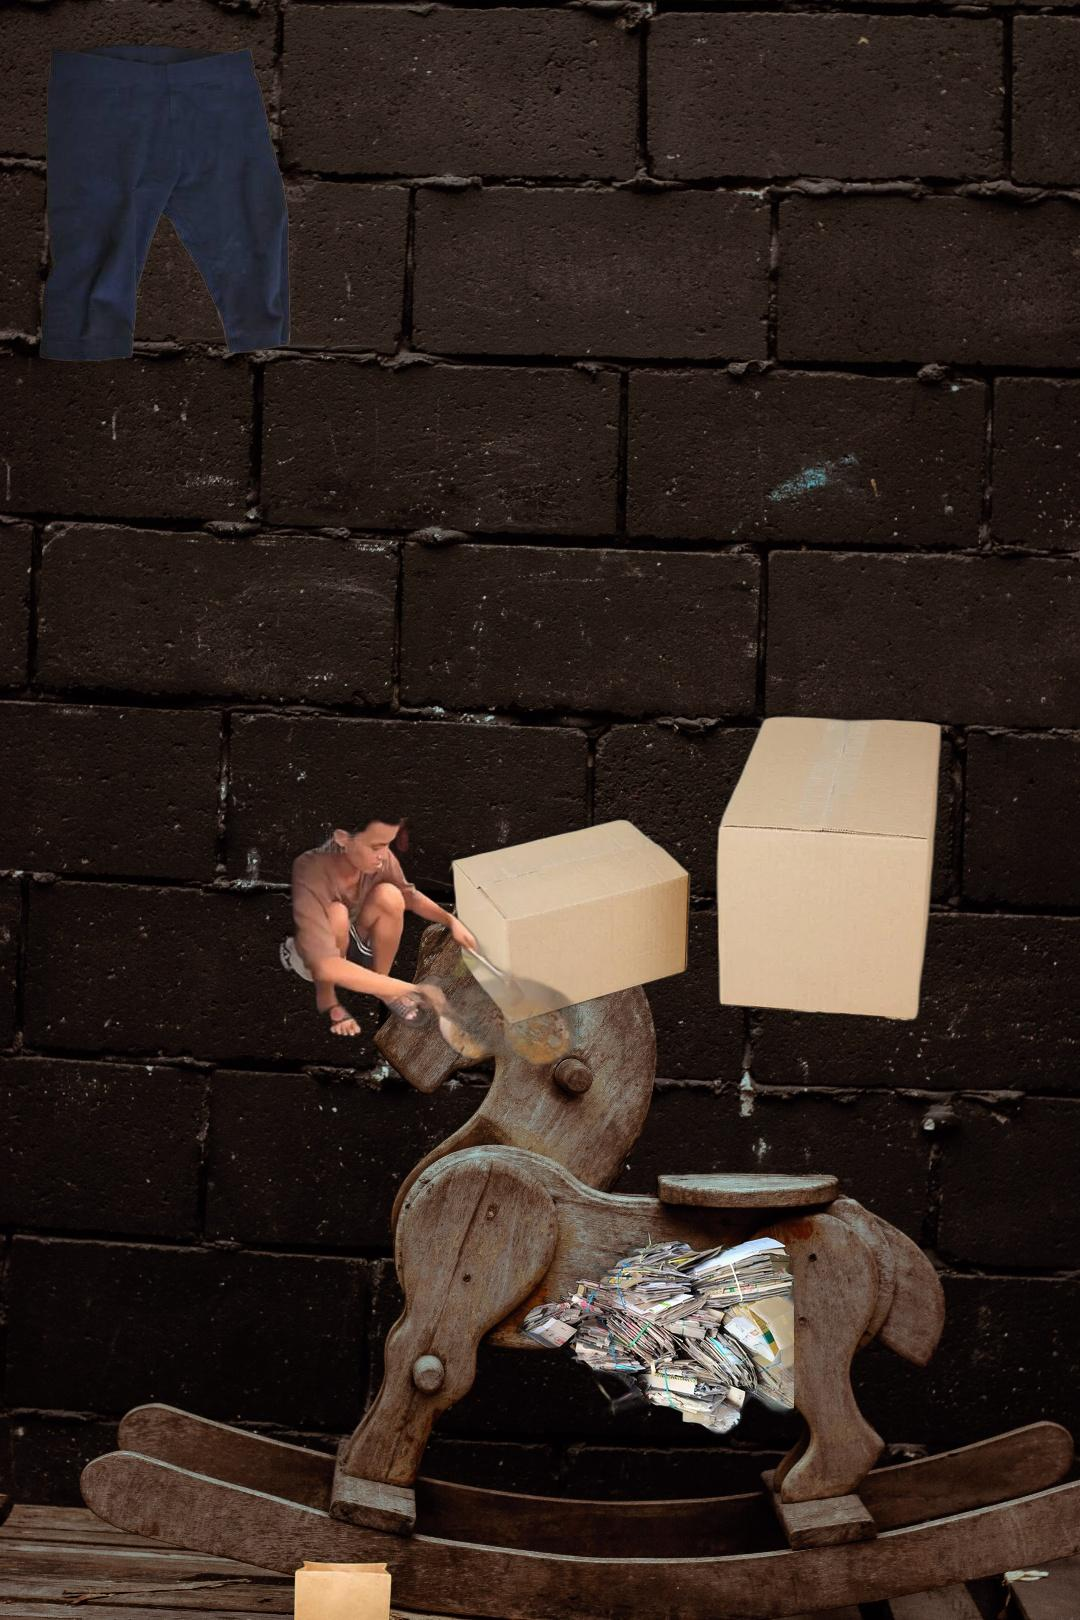biological: (207, 818, 735, 1217)
clothes: (36, 40, 294, 366)
paper-bag: (239, 1556, 395, 1620)
trashbox-cardboard: (403, 700, 947, 1028), (447, 1228, 794, 1471)
